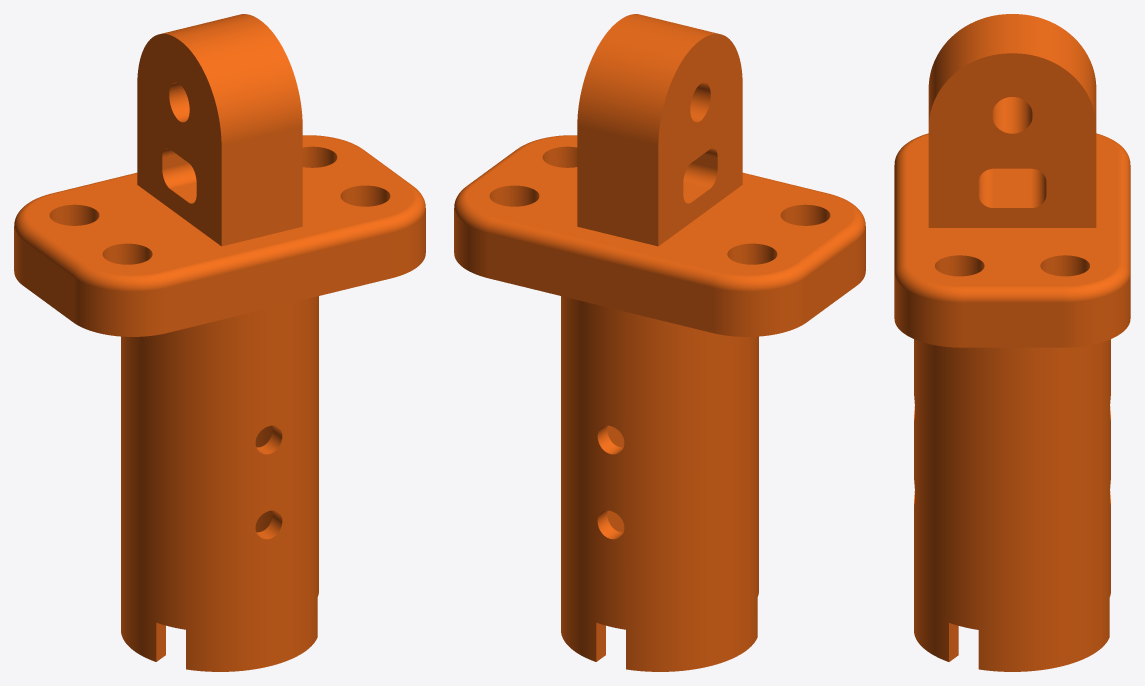
Rendered from 02_cabeza_gin_pole.glb.
The picture shows the model from 3 angles, left to right: view 1: azimuth 30°, elevation 25°; view 2: azimuth 150°, elevation 25°; view 3: azimuth 270°, elevation 25°; orthographic projection.
Parts seen in each view (by area): view 1: 02_cabeza_gin_pole; view 2: 02_cabeza_gin_pole; view 3: 02_cabeza_gin_pole.
Part boxes in pixels (x1,y1,x2,y2): 02_cabeza_gin_pole: (14, 14, 425, 671); 02_cabeza_gin_pole: (454, 14, 865, 671); 02_cabeza_gin_pole: (894, 14, 1130, 671).
Bounding box in the file's own units: 127 × 212 × 76.
